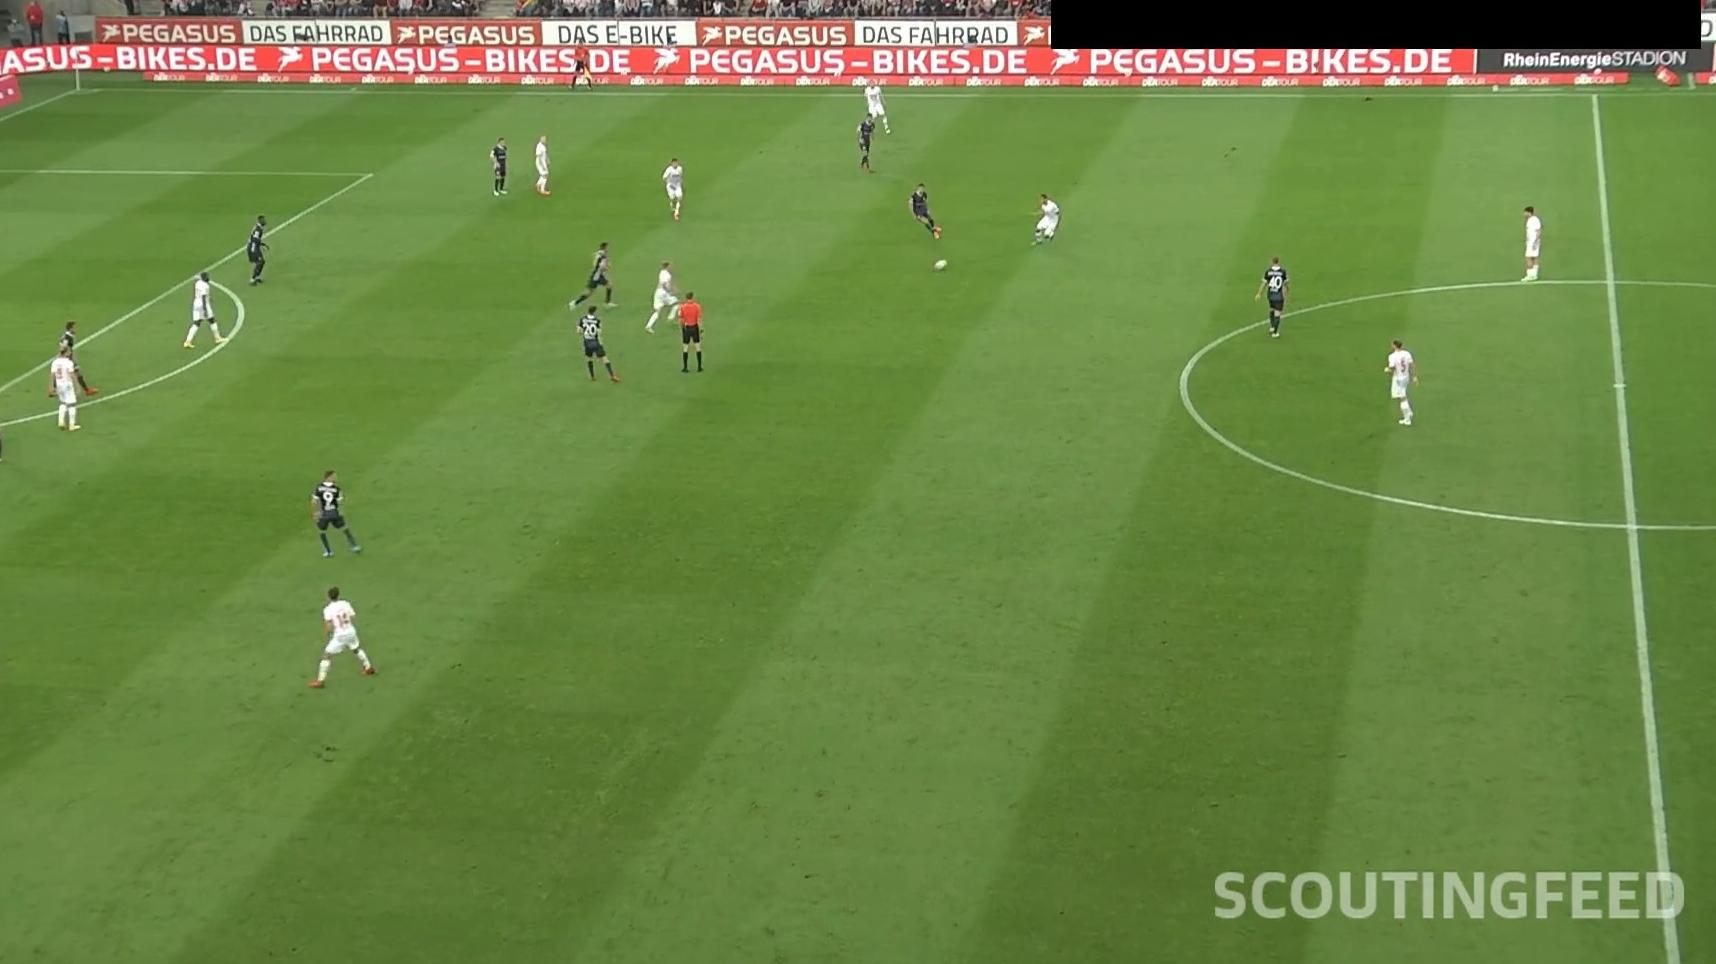ball: (931, 258, 949, 273)
